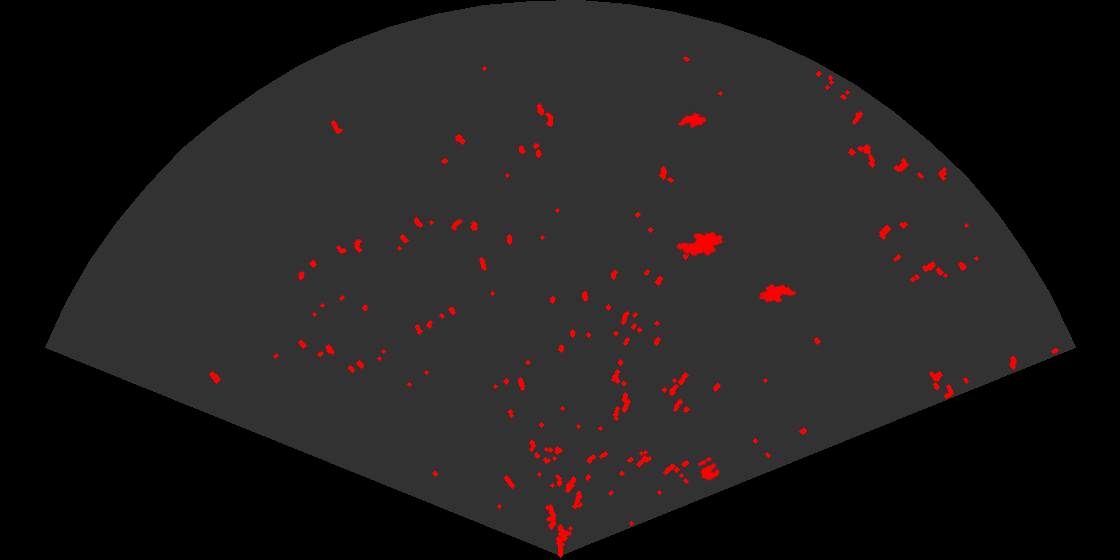AUV: (674, 230, 725, 257), (757, 282, 798, 304), (676, 110, 708, 130)
ball: (696, 455, 721, 482)
